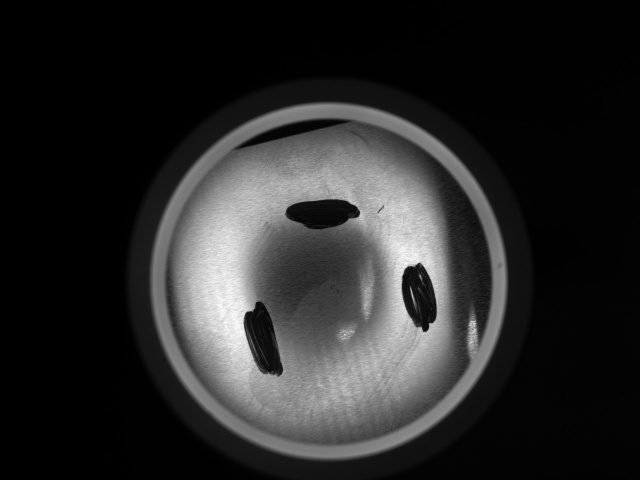zang_wu: (241, 299, 286, 379), (399, 262, 442, 333), (282, 196, 362, 229)
